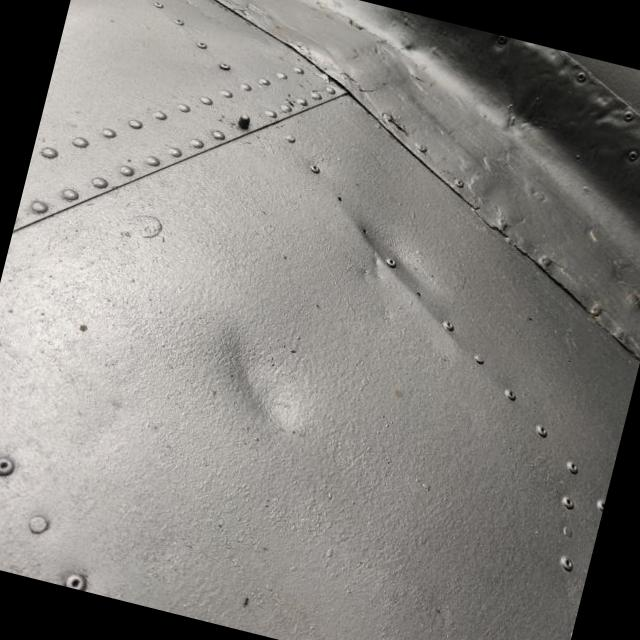Dent: (170, 280, 367, 471)
